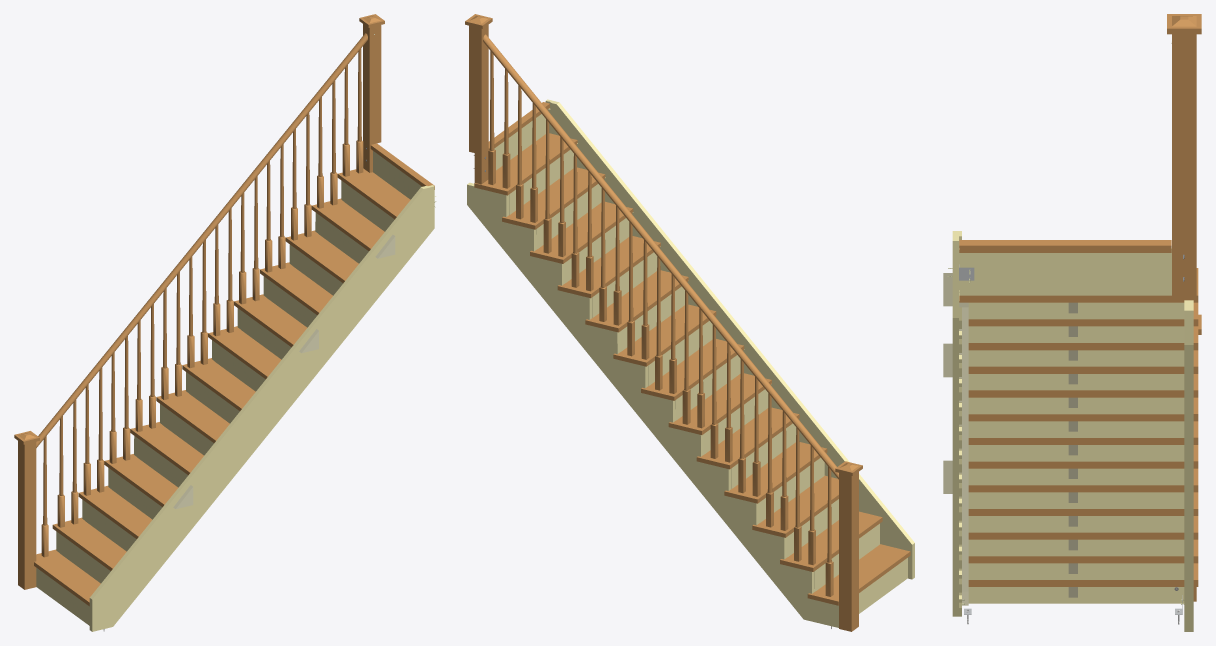
The model's file is Stairs_VDC_v4.glb.
3 renders of one model, left to right at view 1: azimuth 30°, elevation 25°; view 2: azimuth 150°, elevation 25°; view 3: azimuth 270°, elevation 25°, orthographic. The views are drawn at different scales.
Parts seen in each view (by area): view 1: Geom3D (×33); view 2: Geom3D (×32); view 3: Geom3D (×31).
Boxes of the visible parts, box(x1,y1,x2,y2) form: Geom3D (×33): box(14, 14, 434, 631); Geom3D (×32): box(465, 14, 914, 631); Geom3D (×31): box(952, 14, 1201, 631).
Bounding box in the file's own units: 3.1 × 4.02 × 1.05.
